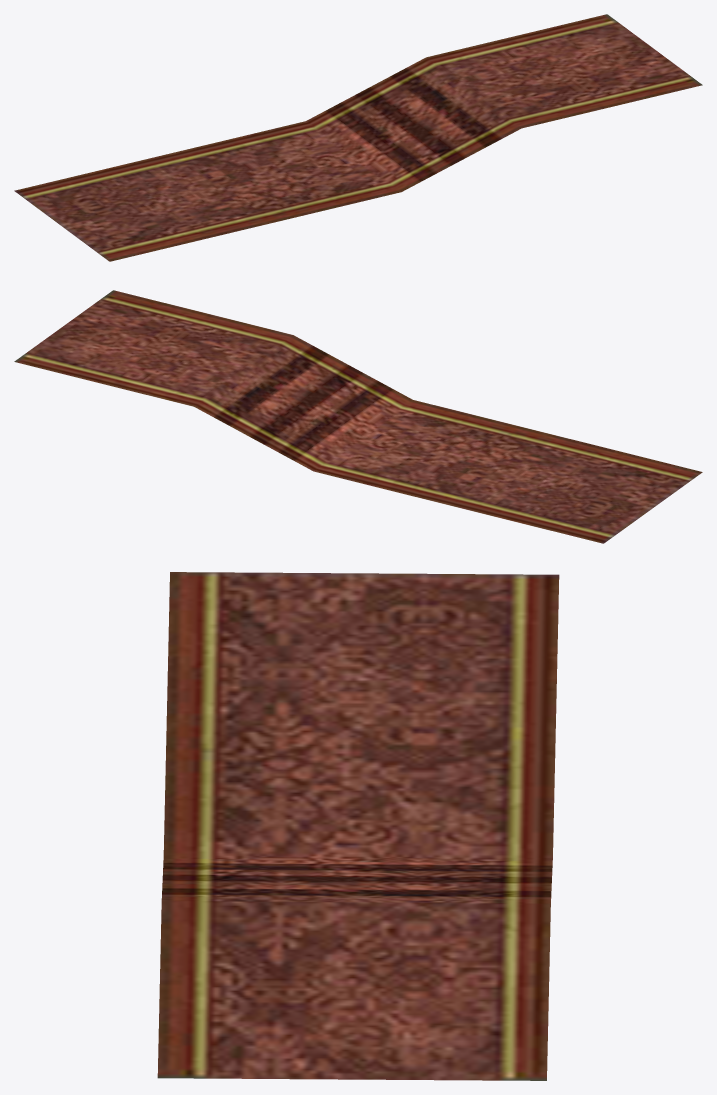
The model's file is h5_changditan.FBX.
The picture shows the model from 3 angles, top to bottom: view 1: azimuth 30°, elevation 25°; view 2: azimuth 150°, elevation 25°; view 3: azimuth 270°, elevation 25°; orthographic projection. The views are drawn at different scales.
Visible parts, largest first — view 1: h5_changditan; view 2: h5_changditan; view 3: h5_changditan.
Boxes of the visible parts, left/top/right/bottom form: h5_changditan: left=14, top=14, right=702, bottom=261; h5_changditan: left=14, top=290, right=702, bottom=543; h5_changditan: left=157, top=572, right=559, bottom=1080.
Bounding box in the file's own units: 15.6 × 0.8939 × 4.58.
